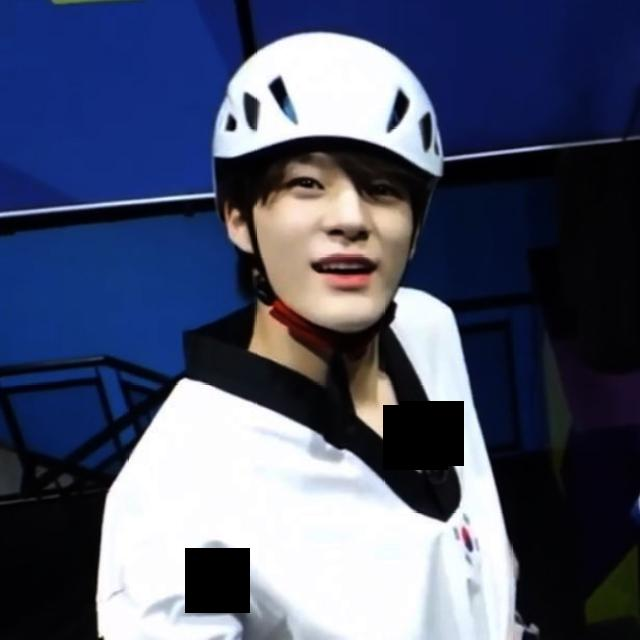Helmet: (208, 32, 448, 336)
